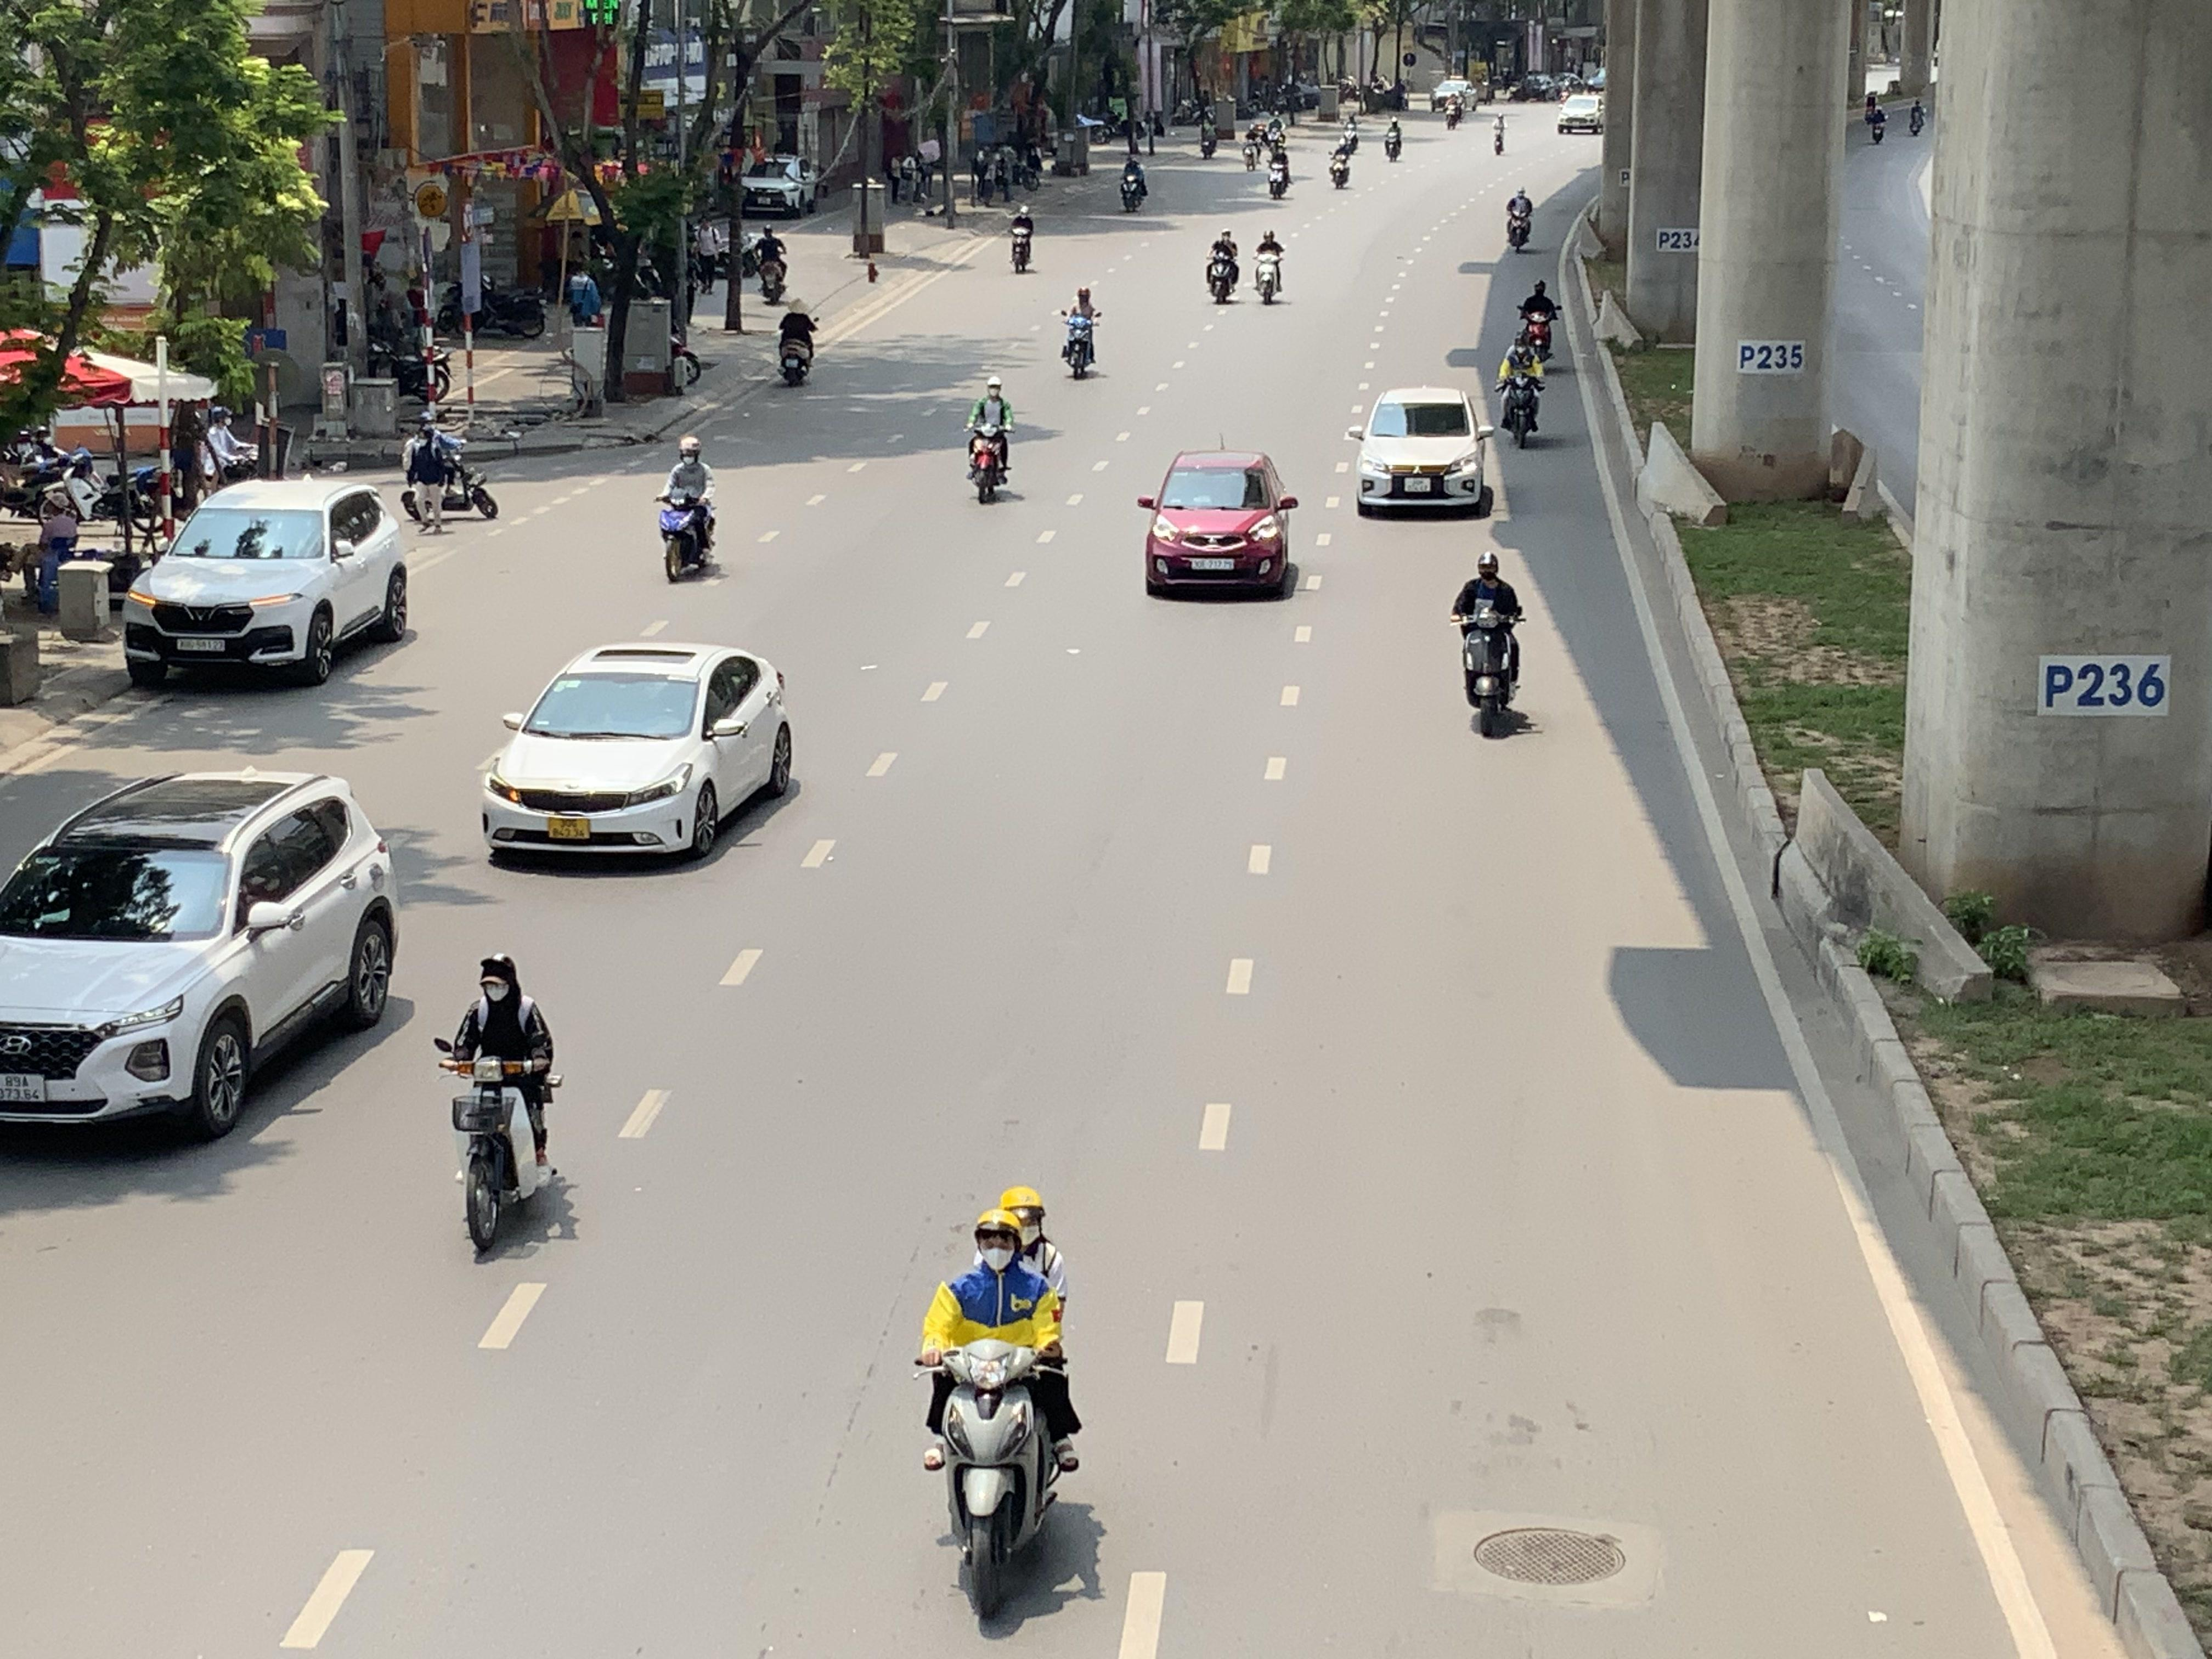BSD: (176, 636, 225, 652), (1191, 558, 1233, 572)
BSV: (0, 1073, 47, 1101), (549, 817, 590, 840), (1404, 477, 1432, 491)
car: (0, 769, 402, 1145), (479, 643, 798, 864), (120, 476, 413, 688), (1136, 450, 1299, 601), (1348, 385, 1498, 519), (737, 155, 819, 216), (1557, 89, 1606, 134)
motorbike: (916, 1185, 1083, 1635), (435, 951, 563, 1263), (1454, 551, 1529, 739), (401, 416, 498, 532), (658, 439, 721, 584), (1496, 326, 1547, 450), (967, 378, 1015, 505), (1515, 277, 1561, 368), (1059, 282, 1101, 380), (775, 298, 817, 387), (1204, 225, 1242, 303), (1251, 227, 1287, 305), (754, 225, 789, 303), (1505, 183, 1534, 251), (1007, 204, 1036, 272), (1264, 134, 1292, 200), (1118, 153, 1148, 214), (1329, 136, 1352, 190)
